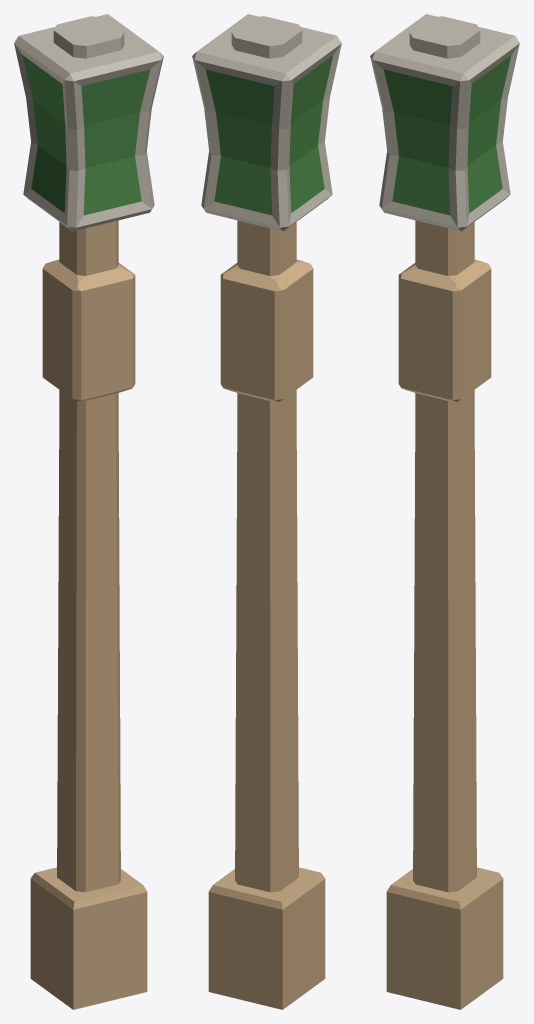
The model's file is streetlight_a_322.gltf.
3 views of the same model, side by side, from view 1: azimuth 30°, elevation 25°; view 2: azimuth 150°, elevation 25°; view 3: azimuth 330°, elevation 25° (orthographic).
Parts seen in each view (by area): view 1: streetlight_a004; view 2: streetlight_a004; view 3: streetlight_a004.
Part boxes in pixels (x1,y1,x2,y2): streetlight_a004: (14, 14, 163, 1009); streetlight_a004: (192, 14, 341, 1009); streetlight_a004: (370, 14, 519, 1009).
Bounding box in the file's own units: 0.1408 × 1.29 × 0.1408.
Materials: 1 (1 with a texture image).
